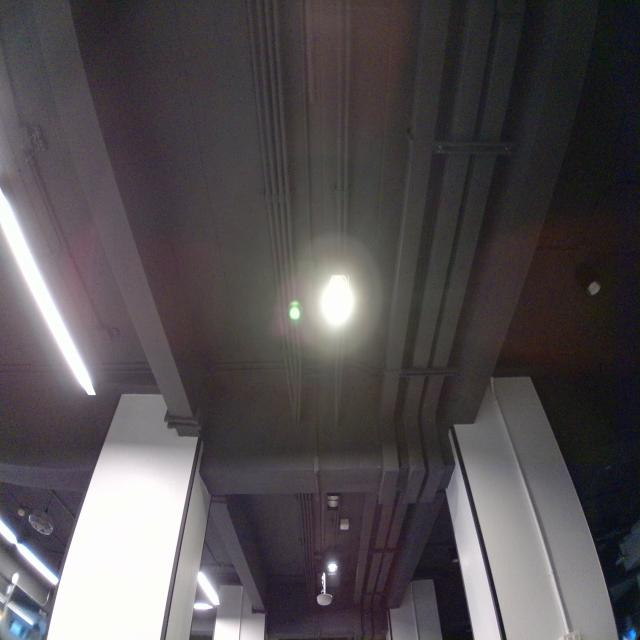lamp1_on: (306, 253, 368, 343)
